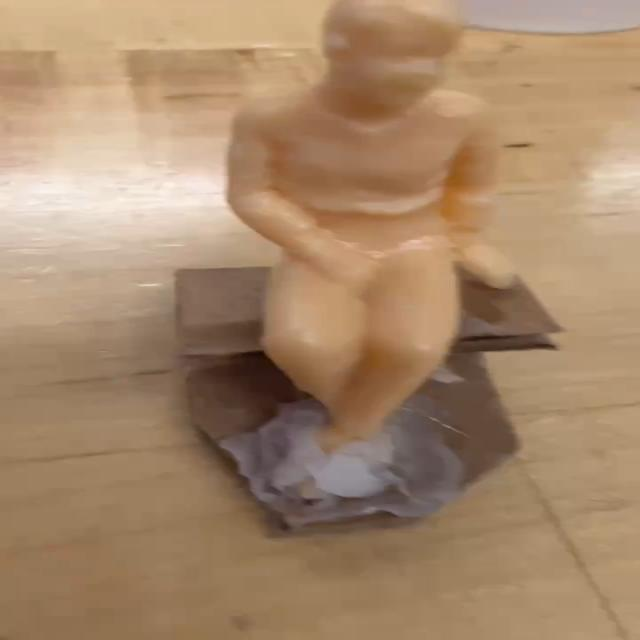Unauthorized: (229, 0, 509, 470)
